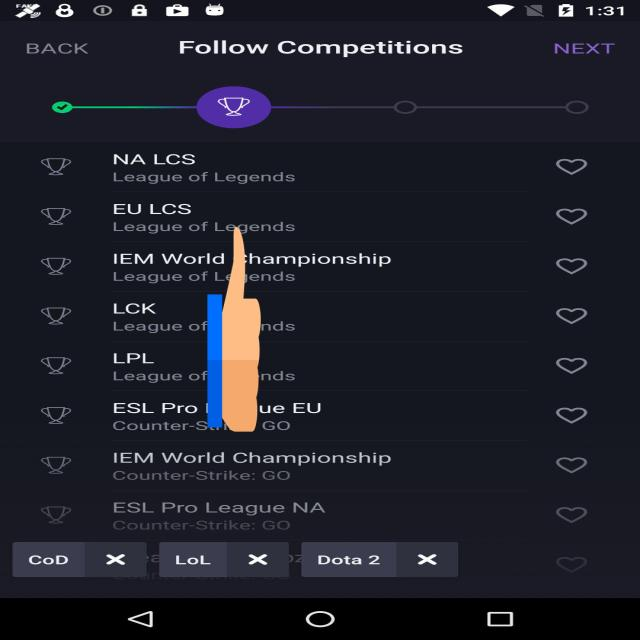privacy zuckering: (207, 222, 261, 436)
